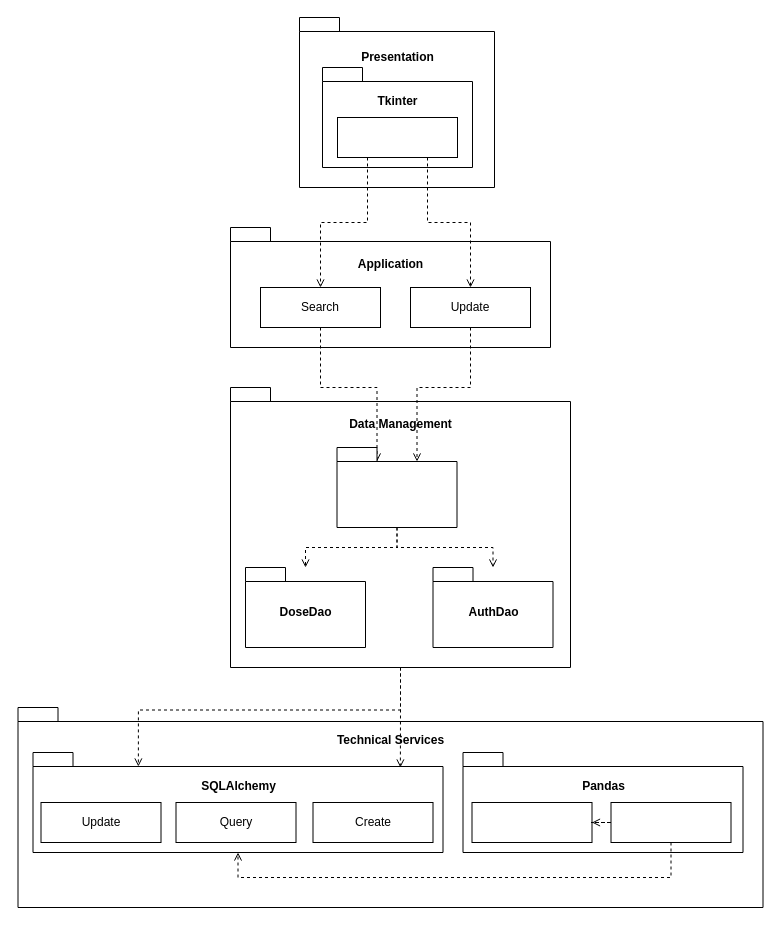
Image size: 780x925. Some labels were removed from this diagram. The centre of each missing label's shape, as x and y in pixels:
"Application Frame" belongs at pixel 397 137.
"DaoFactory" belongs at pixel 396 487.
"read file" belongs at pixel 531 822.
"save data" belongs at pixel 670 822.
